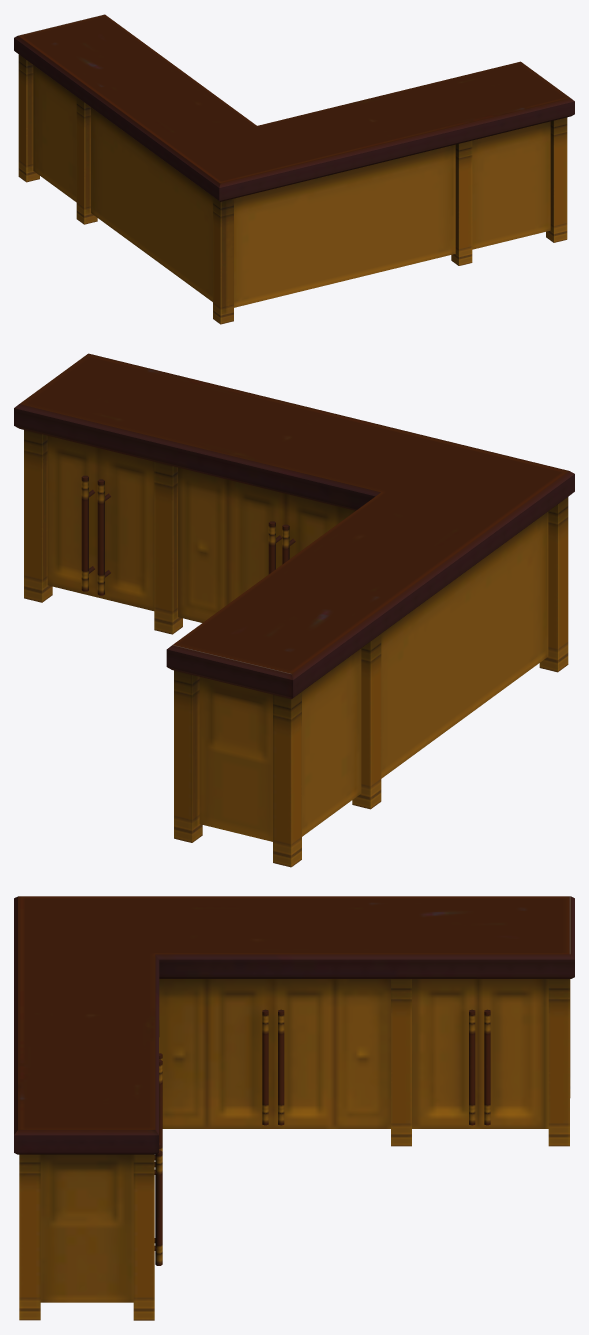
Rendered from Kitchen_Cabinet_01_clear.gltf.
The picture shows the model from 3 angles, top to bottom: view 1: azimuth 30°, elevation 25°; view 2: azimuth 150°, elevation 25°; view 3: azimuth 270°, elevation 25°; orthographic projection. The views are drawn at different scales.
Parts seen in each view (by area): view 1: Kitchen_Cabinet_02; view 2: Kitchen_Cabinet_02; view 3: Kitchen_Cabinet_02.
Boxes of the visible parts, box(x1,y1,x2,y2) form: Kitchen_Cabinet_02: box(14, 14, 574, 324); Kitchen_Cabinet_02: box(14, 353, 574, 867); Kitchen_Cabinet_02: box(14, 896, 574, 1320).
Size of the model in its own units: 86.01 by 32.59 by 86.05.
Materials: 1 (1 with a texture image).
